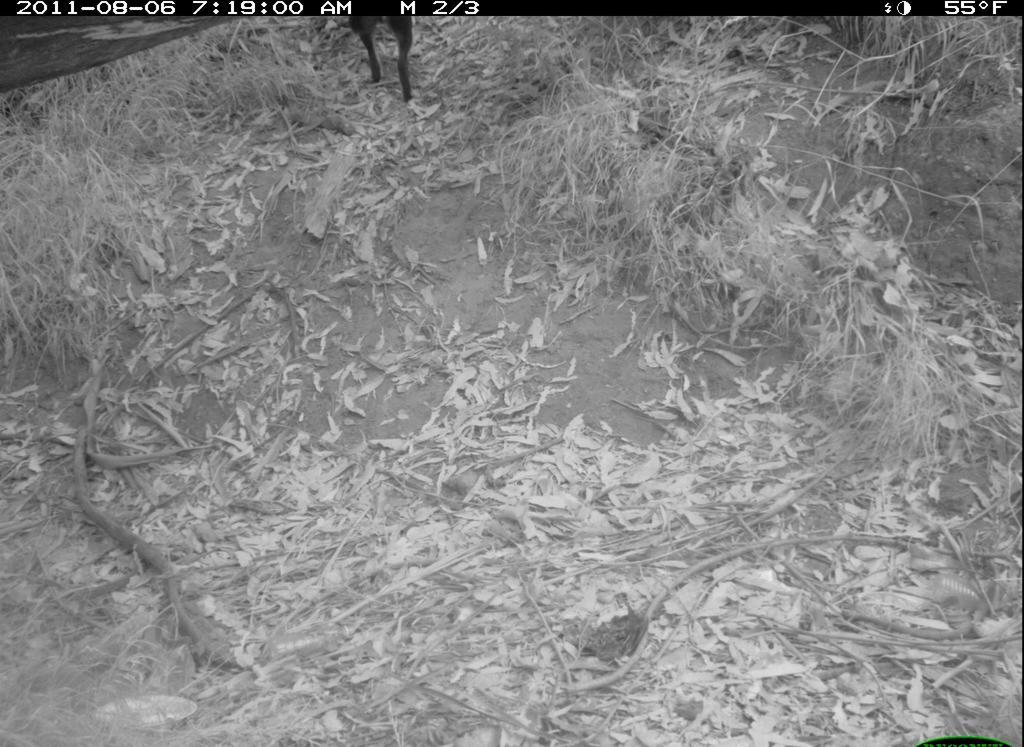dog: (318, 11, 432, 112)
